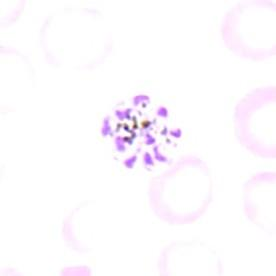Infected: (101, 92, 187, 174)
